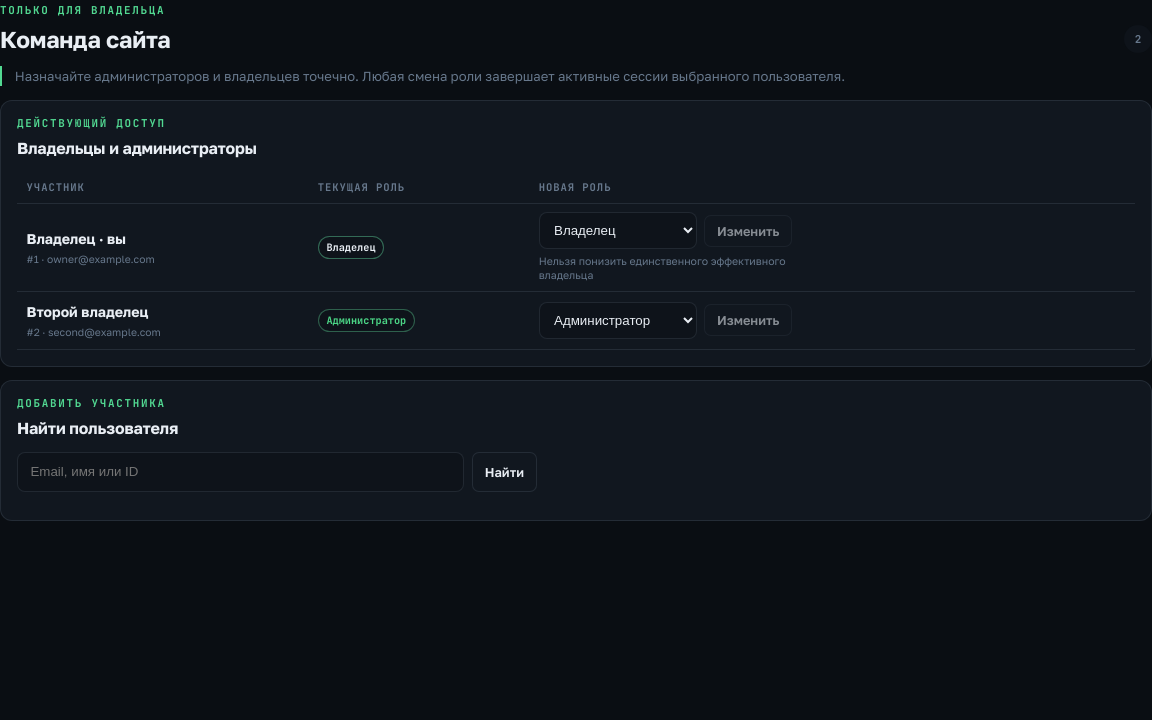
AdminTeamTab security integration › reports a refresh failure separately after a committed role change
The image size is (1152, 720).
Select "Пользователь" in the dropdown named "Новая роль для Второй владелец" in the row of "Второй владелец": (618, 320) [539,302,697,339]
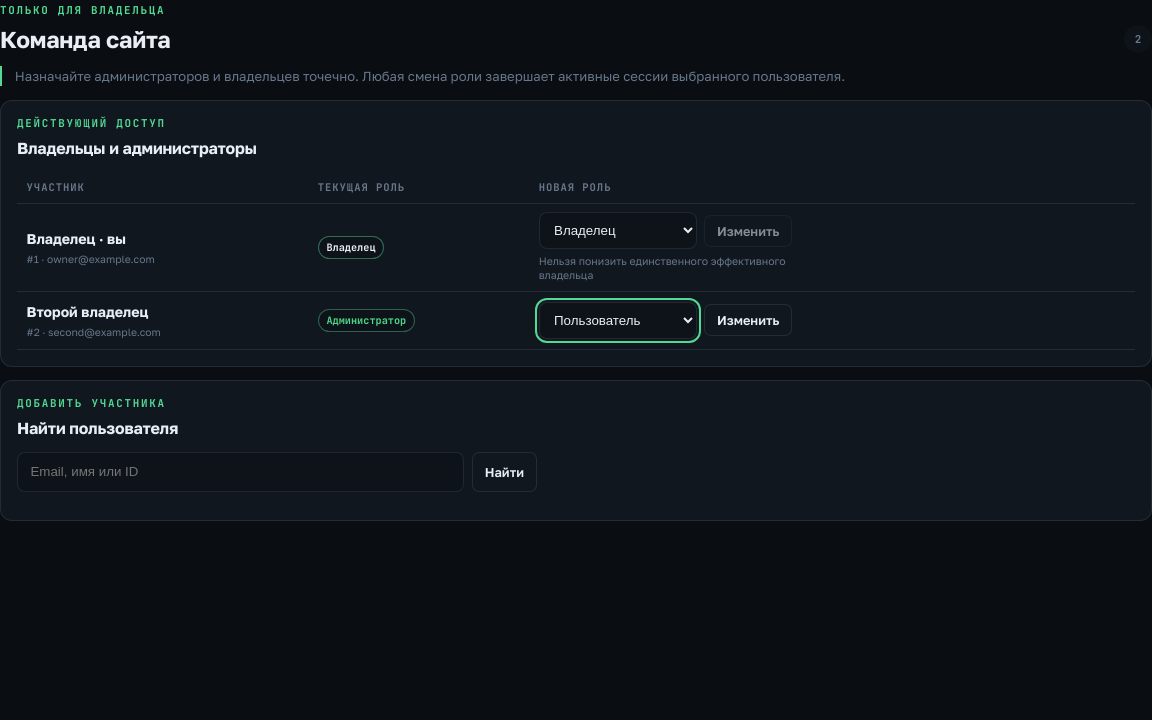
Click the button "Изменить" in the row of "Второй владелец": (748, 320) [704,304,792,336]
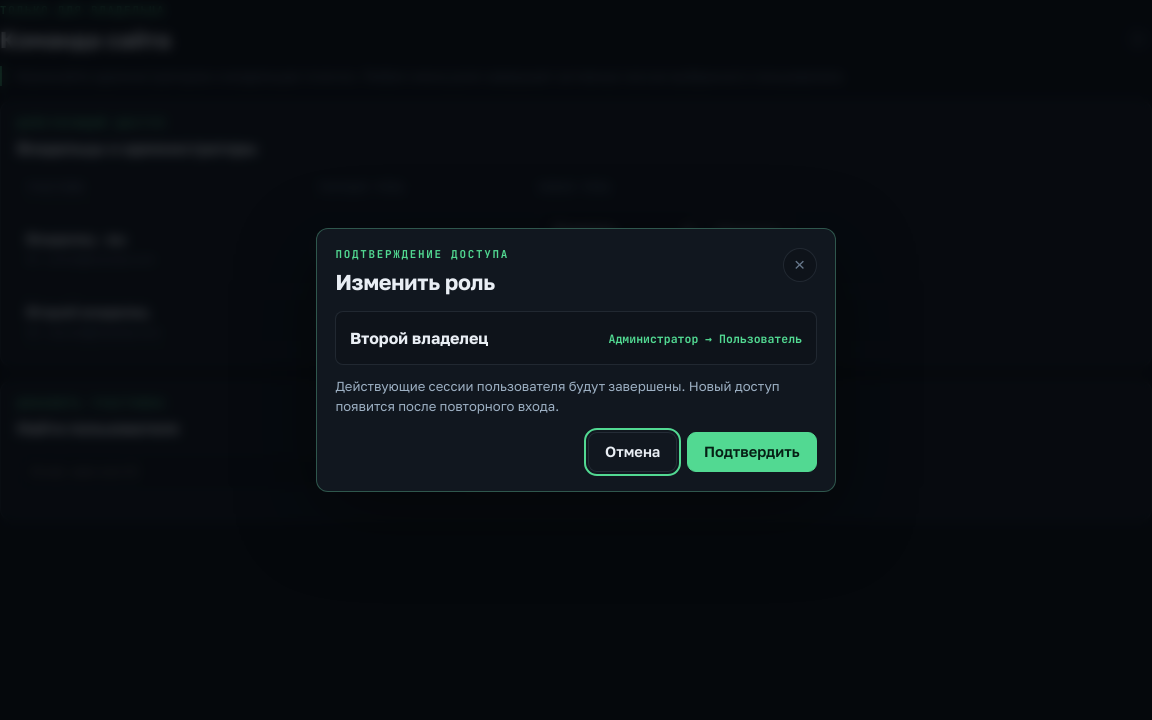
Click the button "Подтвердить": (752, 452) [687,432,817,472]
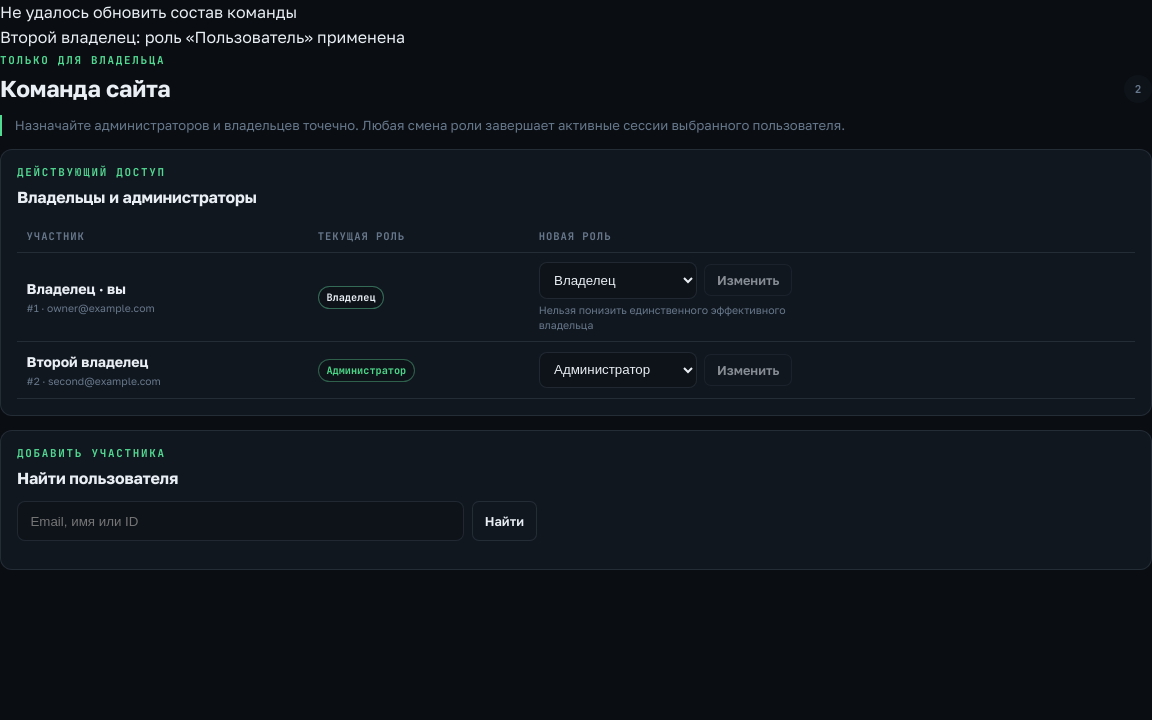
Result: the message "Второй владелец: роль «Пользователь» применена" is shown at [0,27,405,47]
Result: the message "Не удалось обновить состав команды" is shown at [0,2,297,22]
Result: the dialog is gone
